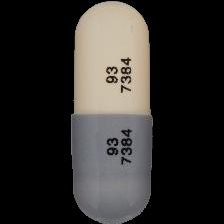42291-897: (0, 0, 224, 224)
